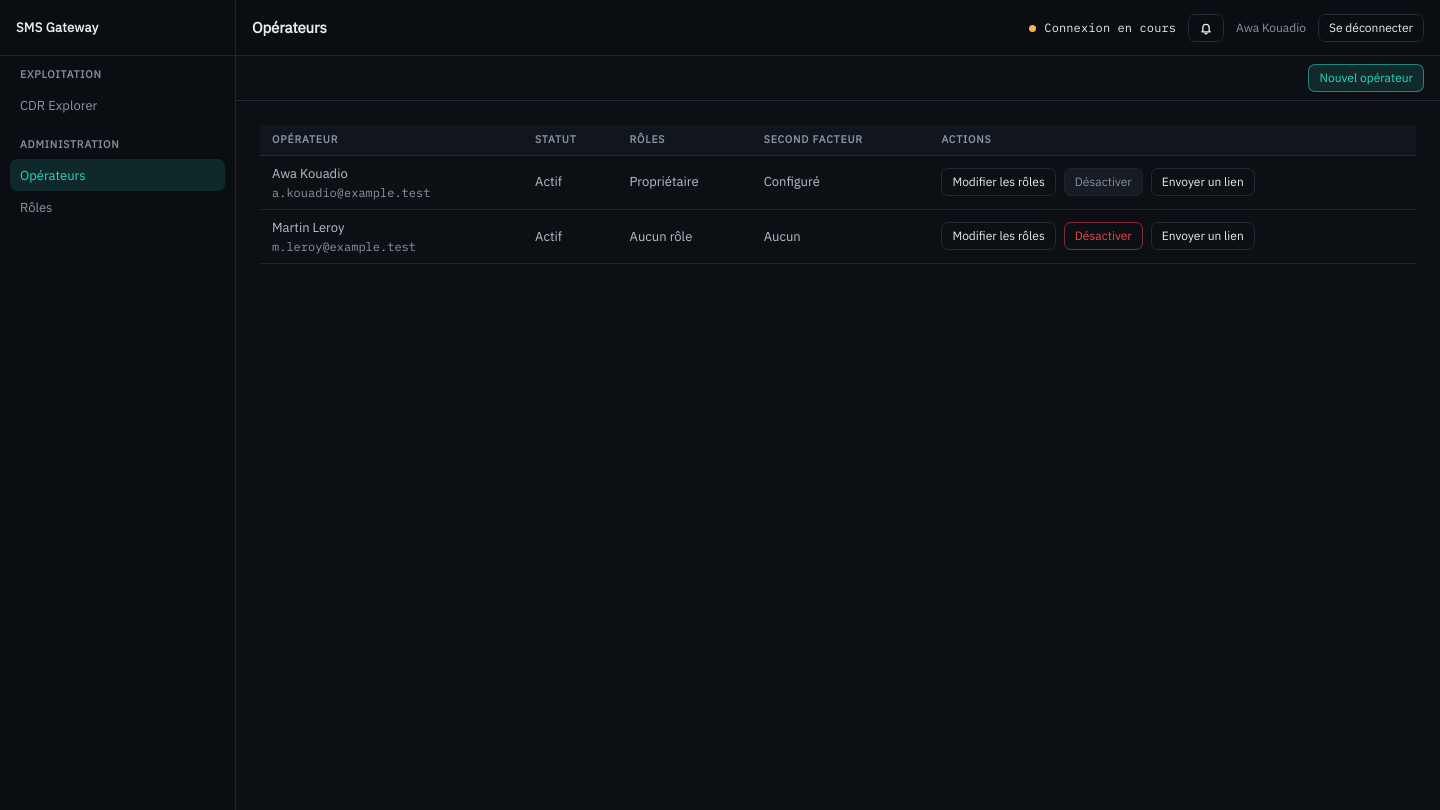
Test: the operators screen › confirms the deactivation by naming its consequence, then applies it
Expected: the heading "Opérateurs" is shown, [252,18,327,37]
Expected: the cell "Martin Leroy m.leroy@example.test" is shown, [260,209,523,263]
Click the button "Désactiver" in the row of "Martin Leroy".
click(1103, 236)  # box [1064,222,1143,250]
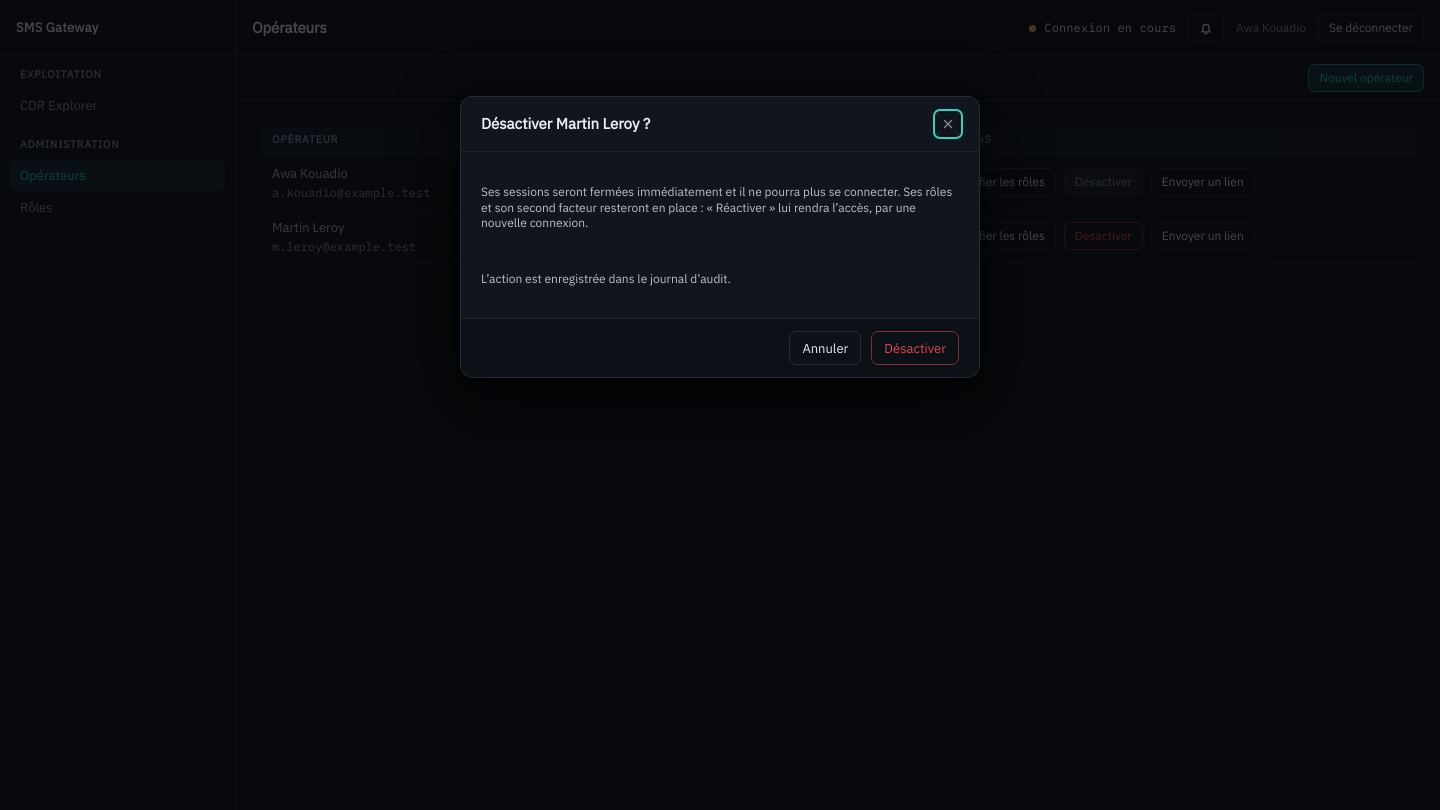
Click the button "Désactiver".
click(915, 348)  # box [871,331,959,365]
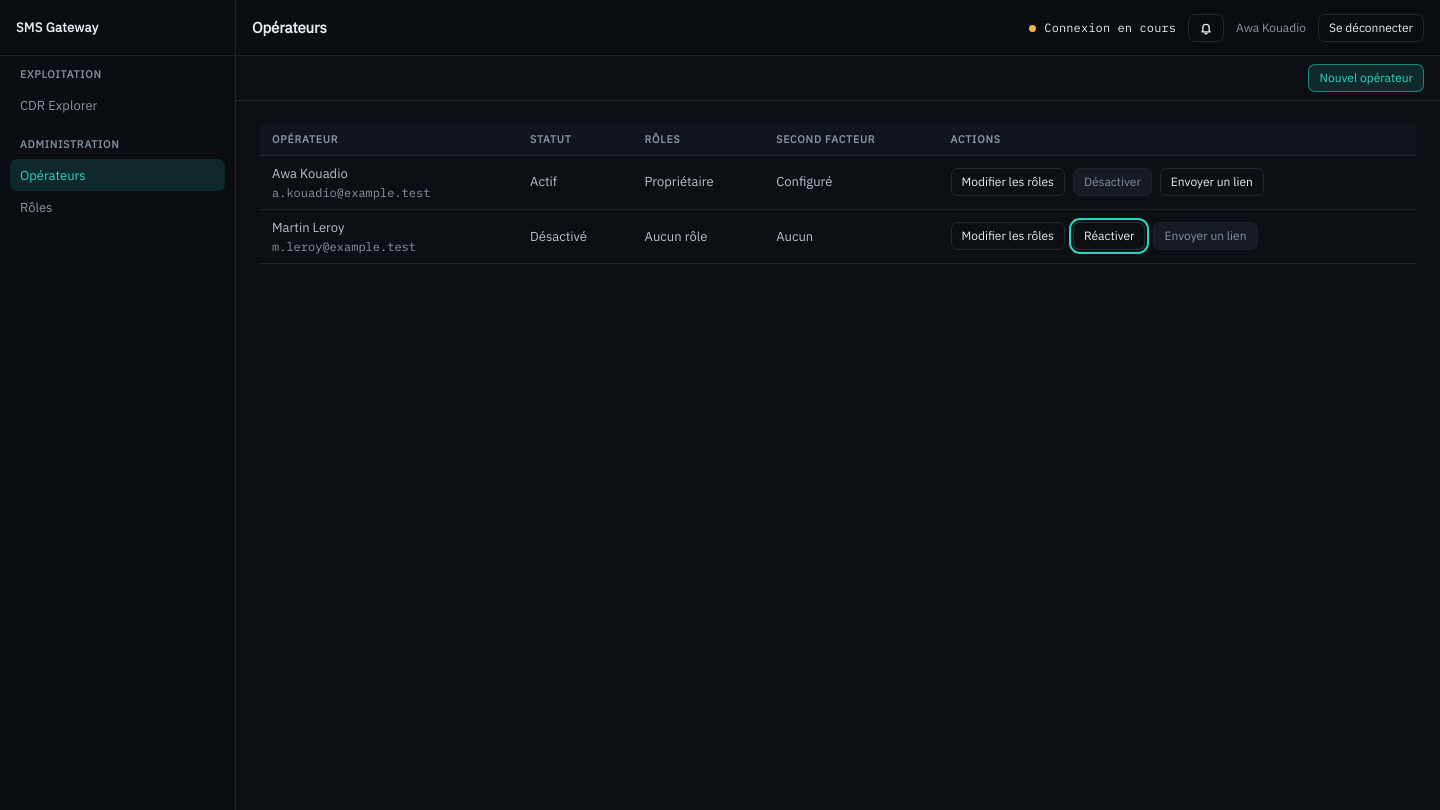
Now the button "Réactiver" is shown, box [1073,222,1145,250]
